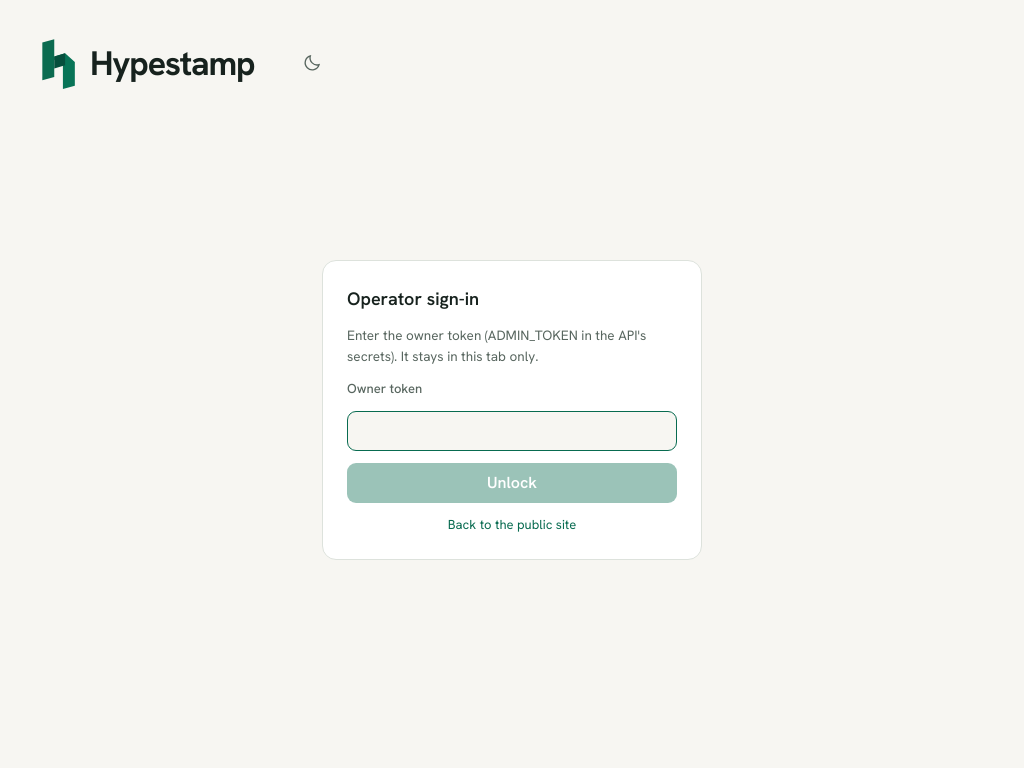
it: Admin sign-in › asks for the owner token and opens the console once it is accepted
This screenshot has width=1024, height=768.
Step 1. Type "secret" into the password field labelled "Owner token" → point(512, 431), box [347,411,677,451]
Then press Enter
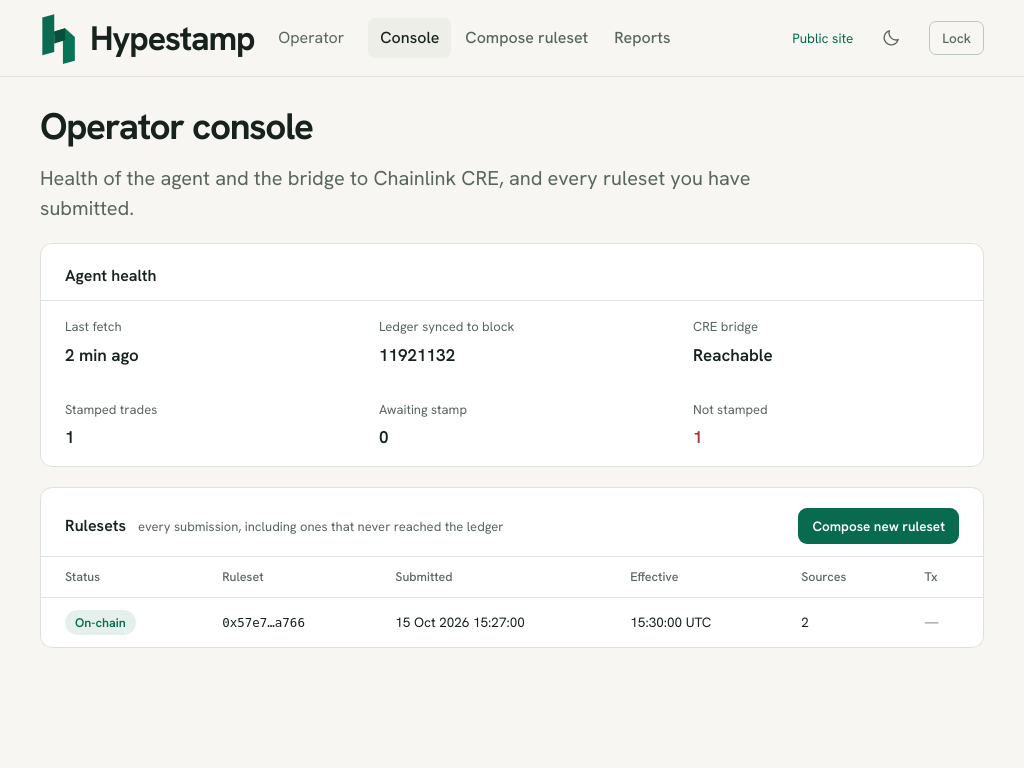
Result: the heading "Operator console" is shown at [40,102,313,150]
